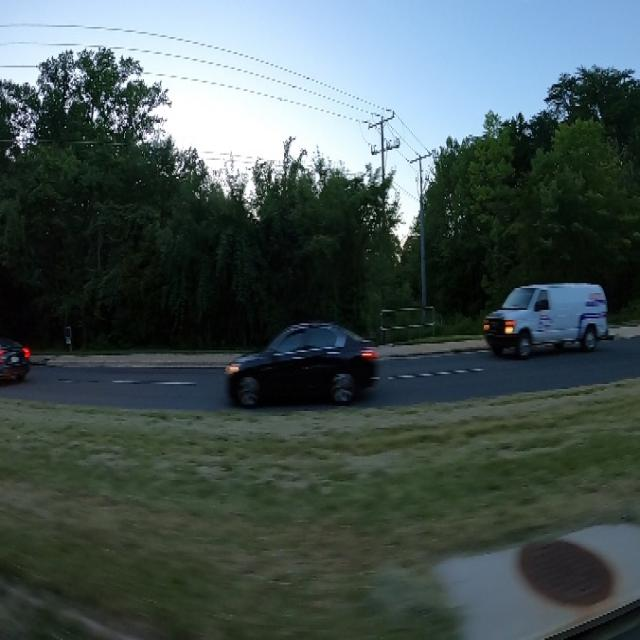cars: (210, 304, 393, 422), (473, 268, 614, 365), (0, 334, 34, 398)
